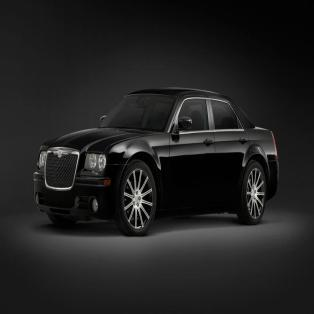Auto: (31, 82, 280, 239)
